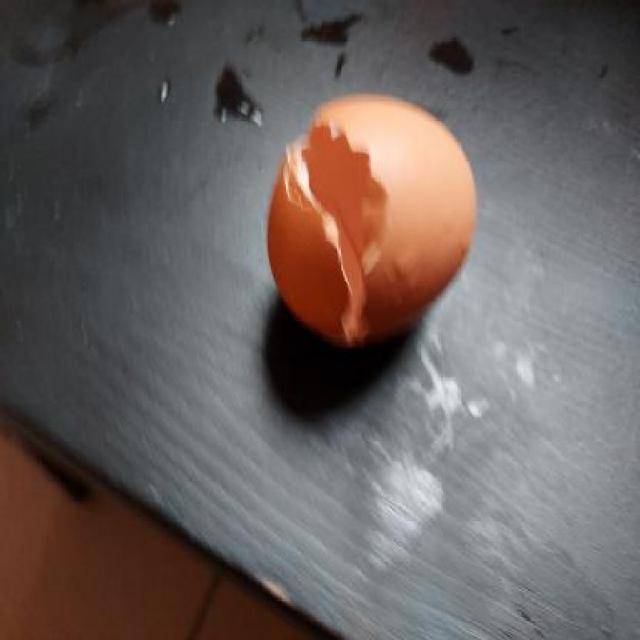biodegradable: (264, 89, 478, 348)
